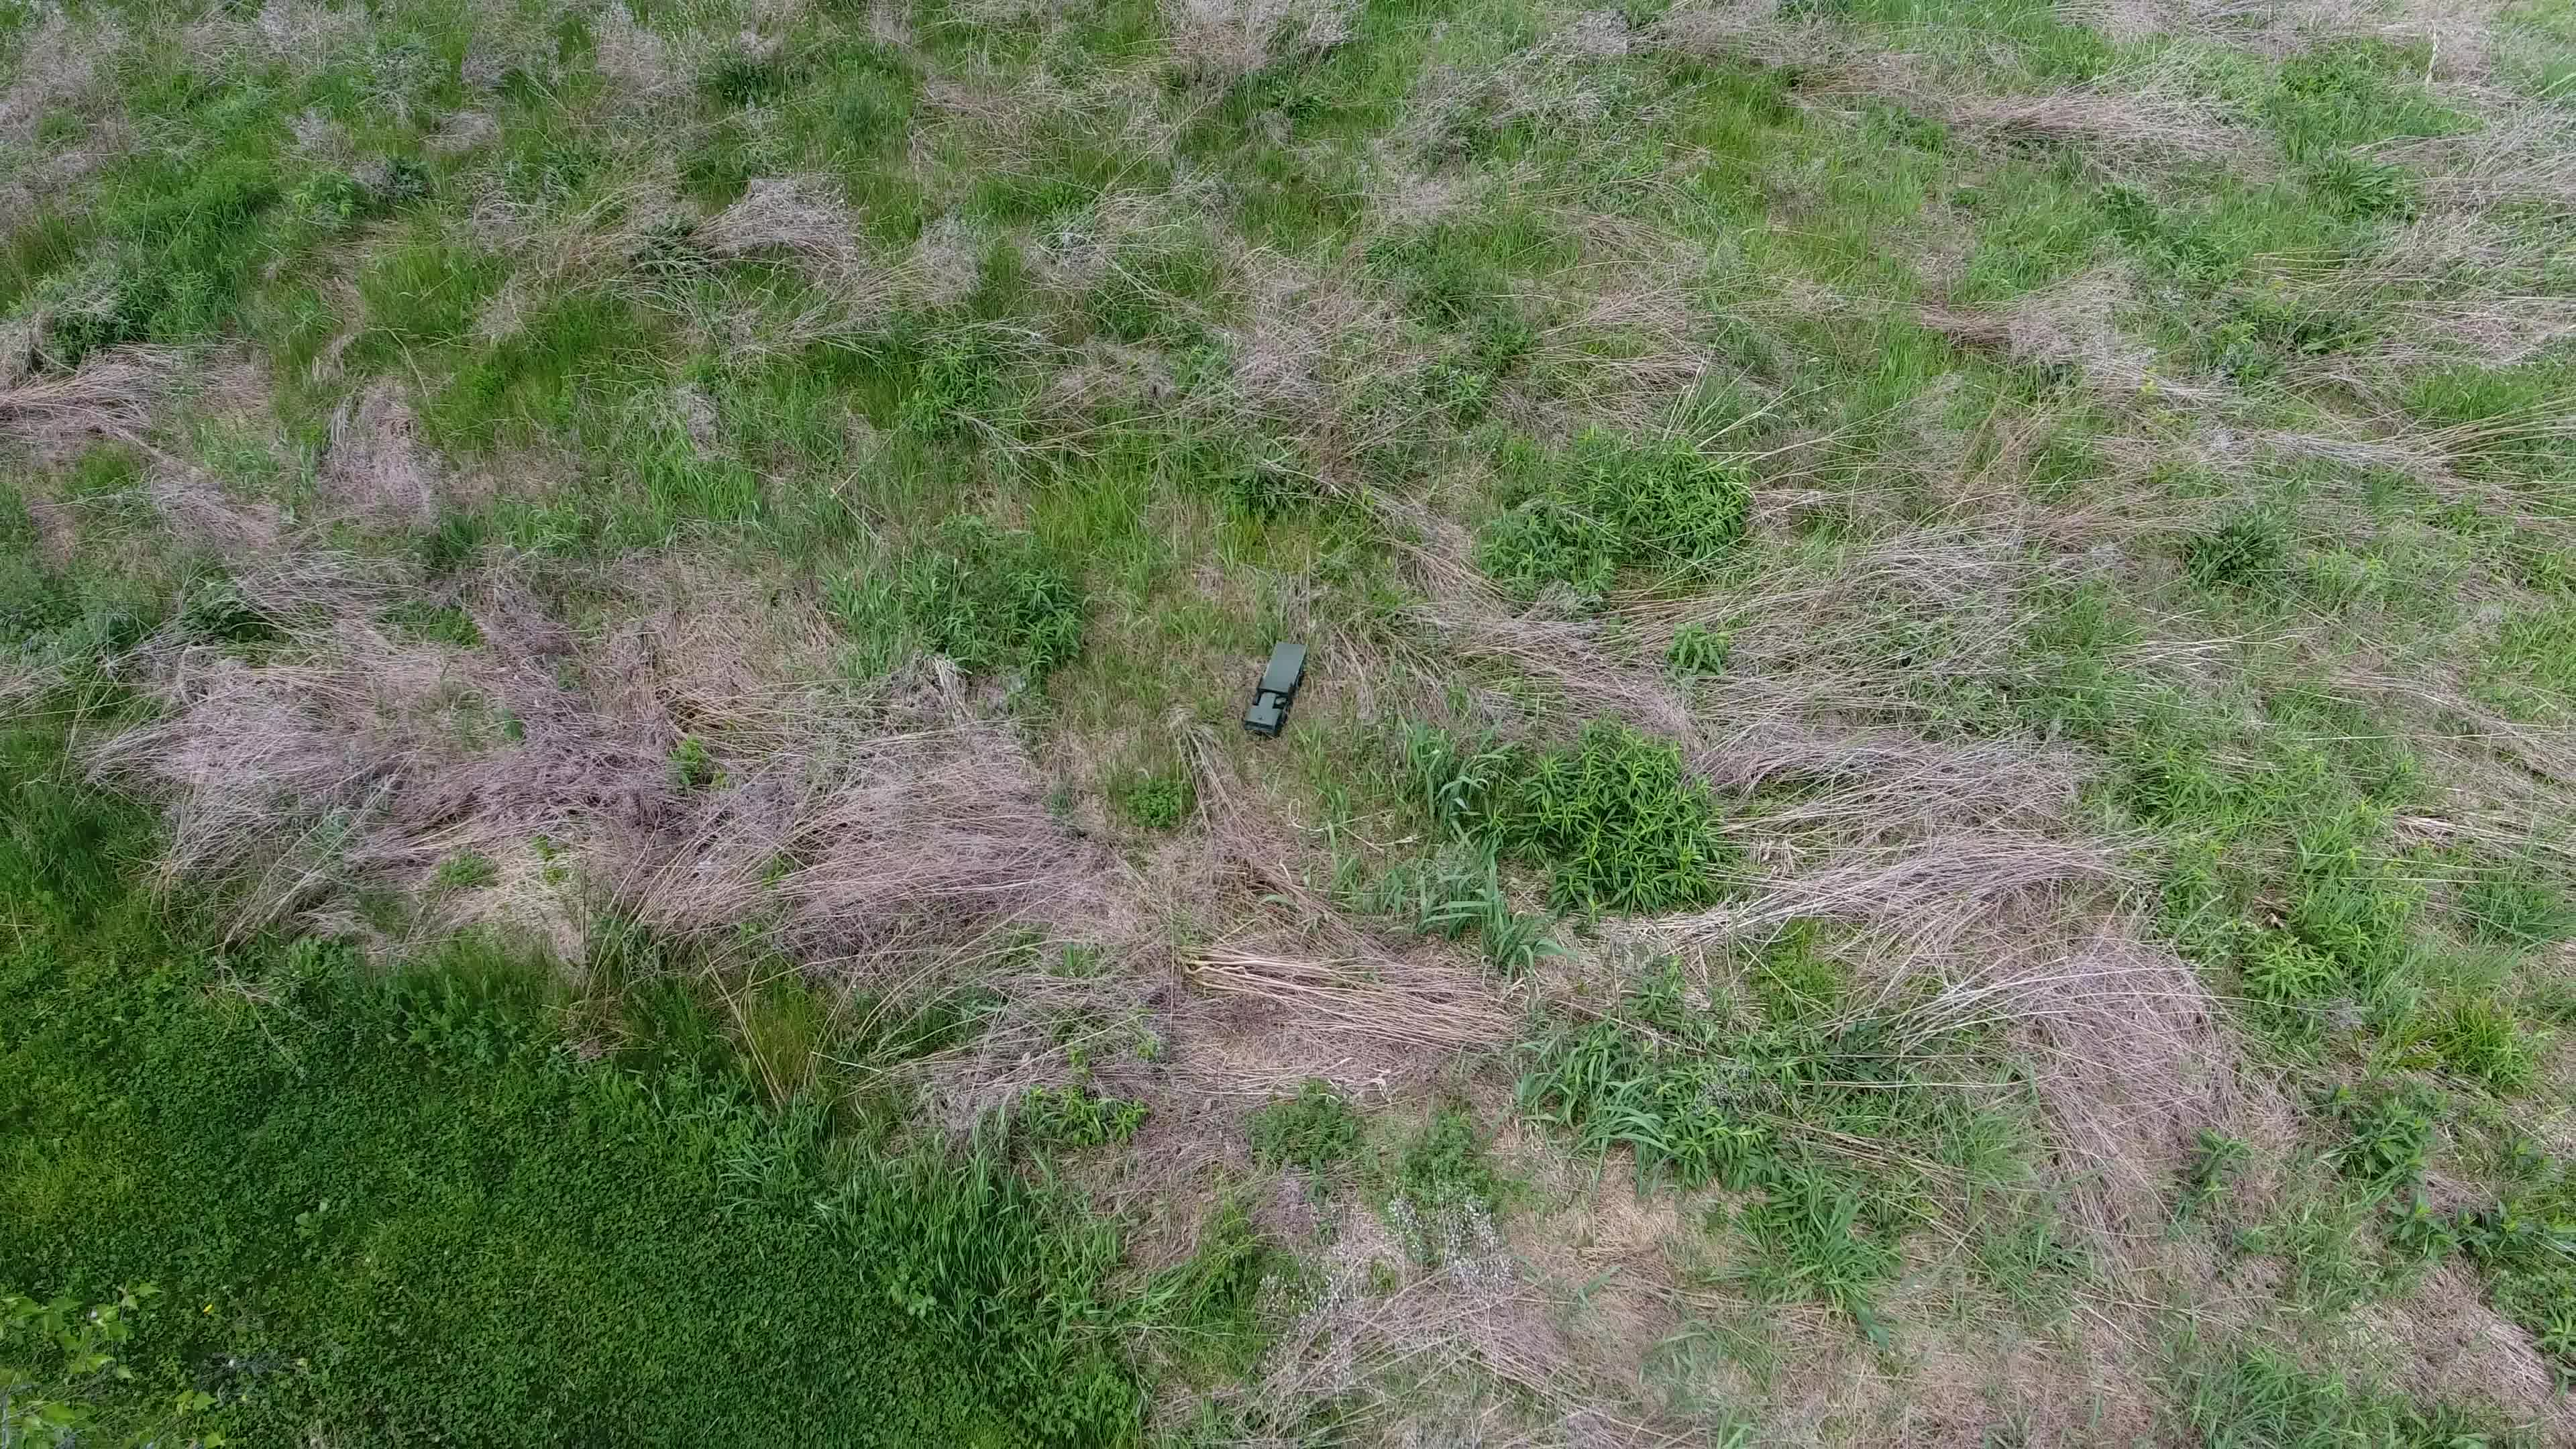transporter9: (1240, 630, 1311, 738)
